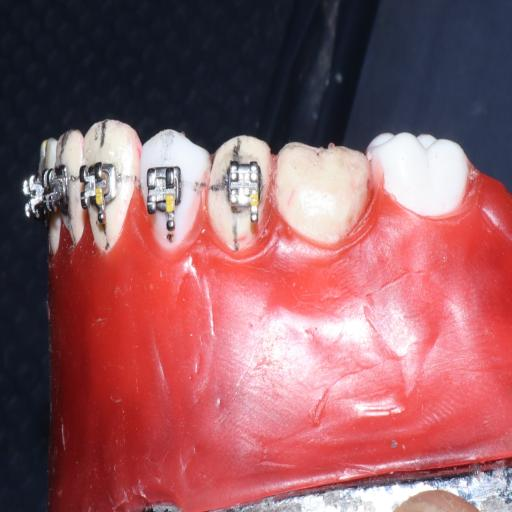incorrect_brace: (225, 159, 264, 214)
